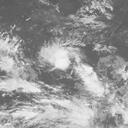cyclone: (37, 38, 86, 71)
